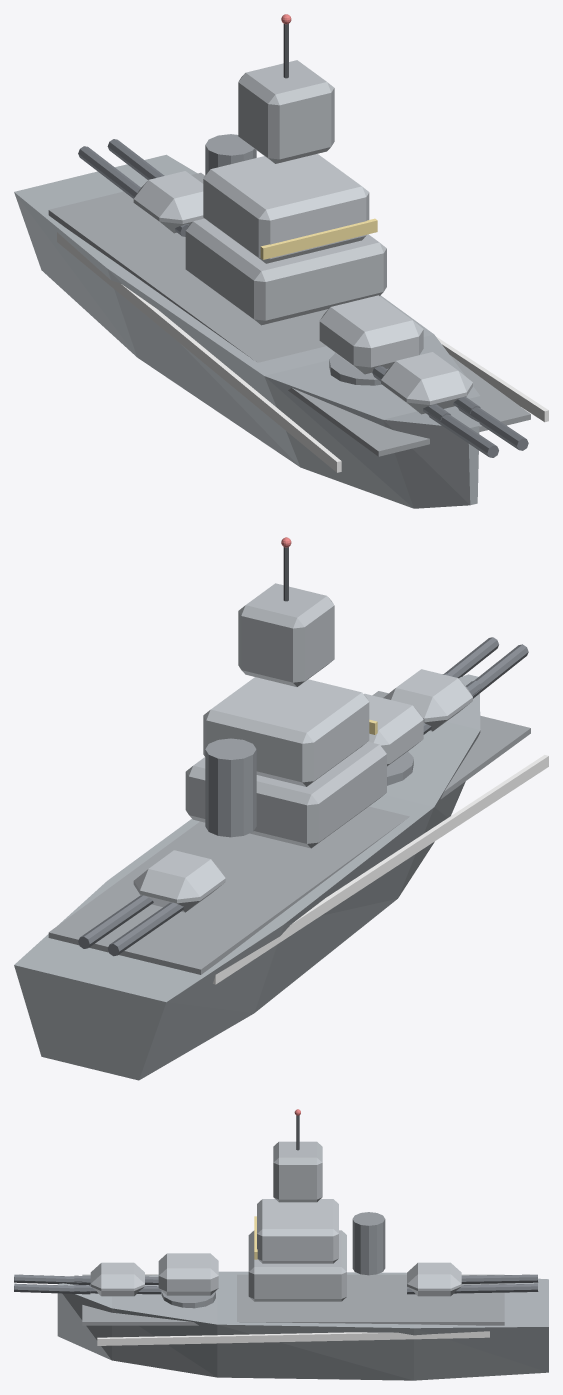
The model's file is battleship.glb.
3 views of the same model, one above another, from view 1: azimuth 30°, elevation 25°; view 2: azimuth 150°, elevation 25°; view 3: azimuth 270°, elevation 25° (orthographic). The views are drawn at different scales.
Parts seen in each view (by area): view 1: main, turret; view 2: main, turret; view 3: main, turret.
Part boxes in pixels (x1,y1,x2,y2): main: (14,14,548,508); turret: (319,295,480,420); main: (14,537,548,1080); turret: (364,673,481,785); main: (14,1109,548,1380); turret: (74,1253,218,1308).
Bounding box in the file's own units: 0.574 × 1.02 × 1.96.
